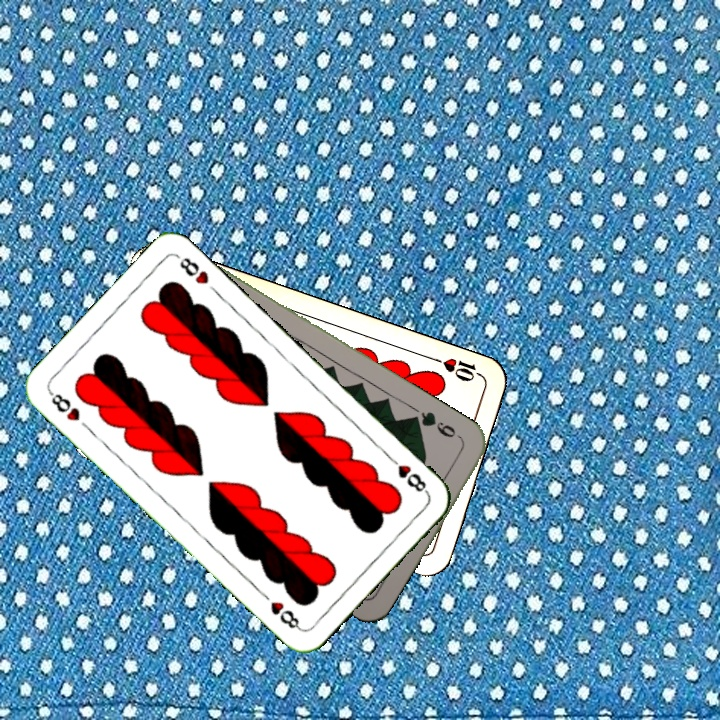G9: (409, 407, 459, 441)
H10: (429, 353, 486, 385)
H8: (383, 451, 431, 497), (45, 387, 83, 424)
